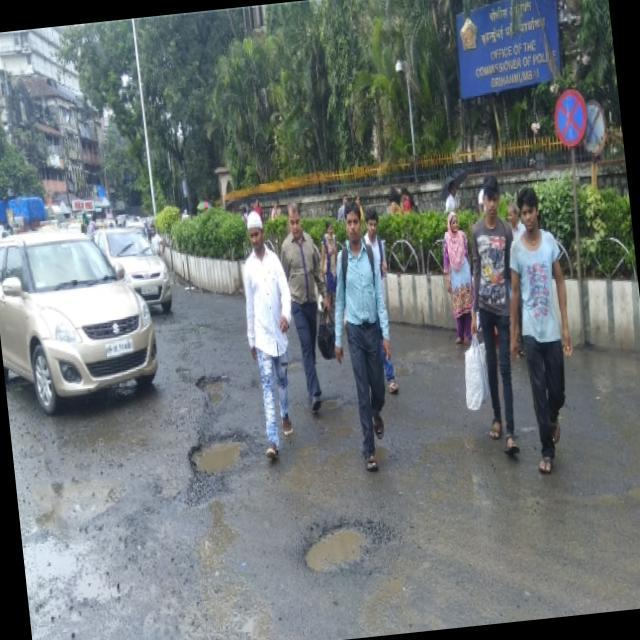Pothole: (276, 500, 396, 584), (170, 425, 272, 489), (186, 364, 252, 422), (313, 387, 356, 417), (276, 351, 311, 377)
